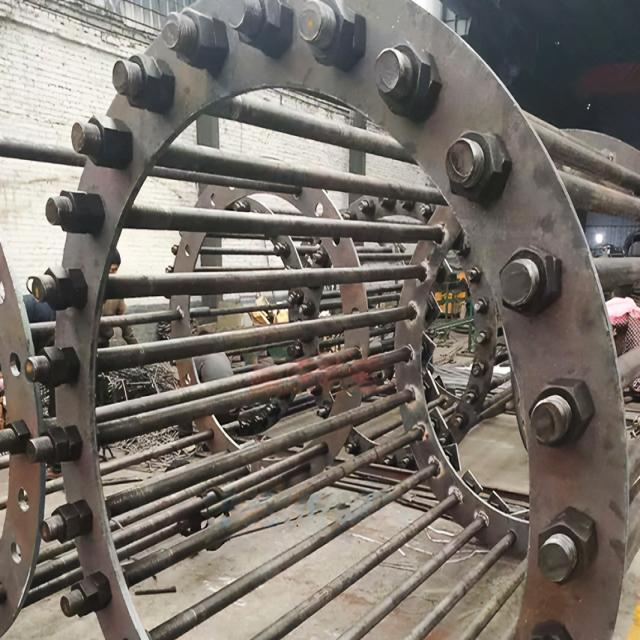blur bolt: (354, 193, 375, 219), (468, 356, 486, 380), (471, 292, 489, 314), (271, 240, 289, 262), (476, 325, 492, 348), (466, 262, 481, 286), (452, 411, 469, 432), (464, 386, 479, 408), (301, 296, 316, 318), (286, 288, 301, 308), (260, 400, 276, 418)
bolt nut: (525, 375, 594, 449), (372, 38, 432, 120), (498, 241, 556, 321), (448, 126, 501, 206), (536, 514, 593, 588), (296, 1, 356, 66), (168, 4, 216, 72), (115, 48, 161, 110), (81, 112, 120, 171), (54, 186, 88, 236), (39, 262, 72, 312), (34, 342, 66, 392), (36, 423, 68, 467), (68, 576, 100, 618), (50, 503, 80, 546), (2, 418, 32, 456)
